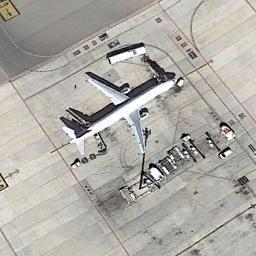Airplane: (59, 70, 177, 156)
